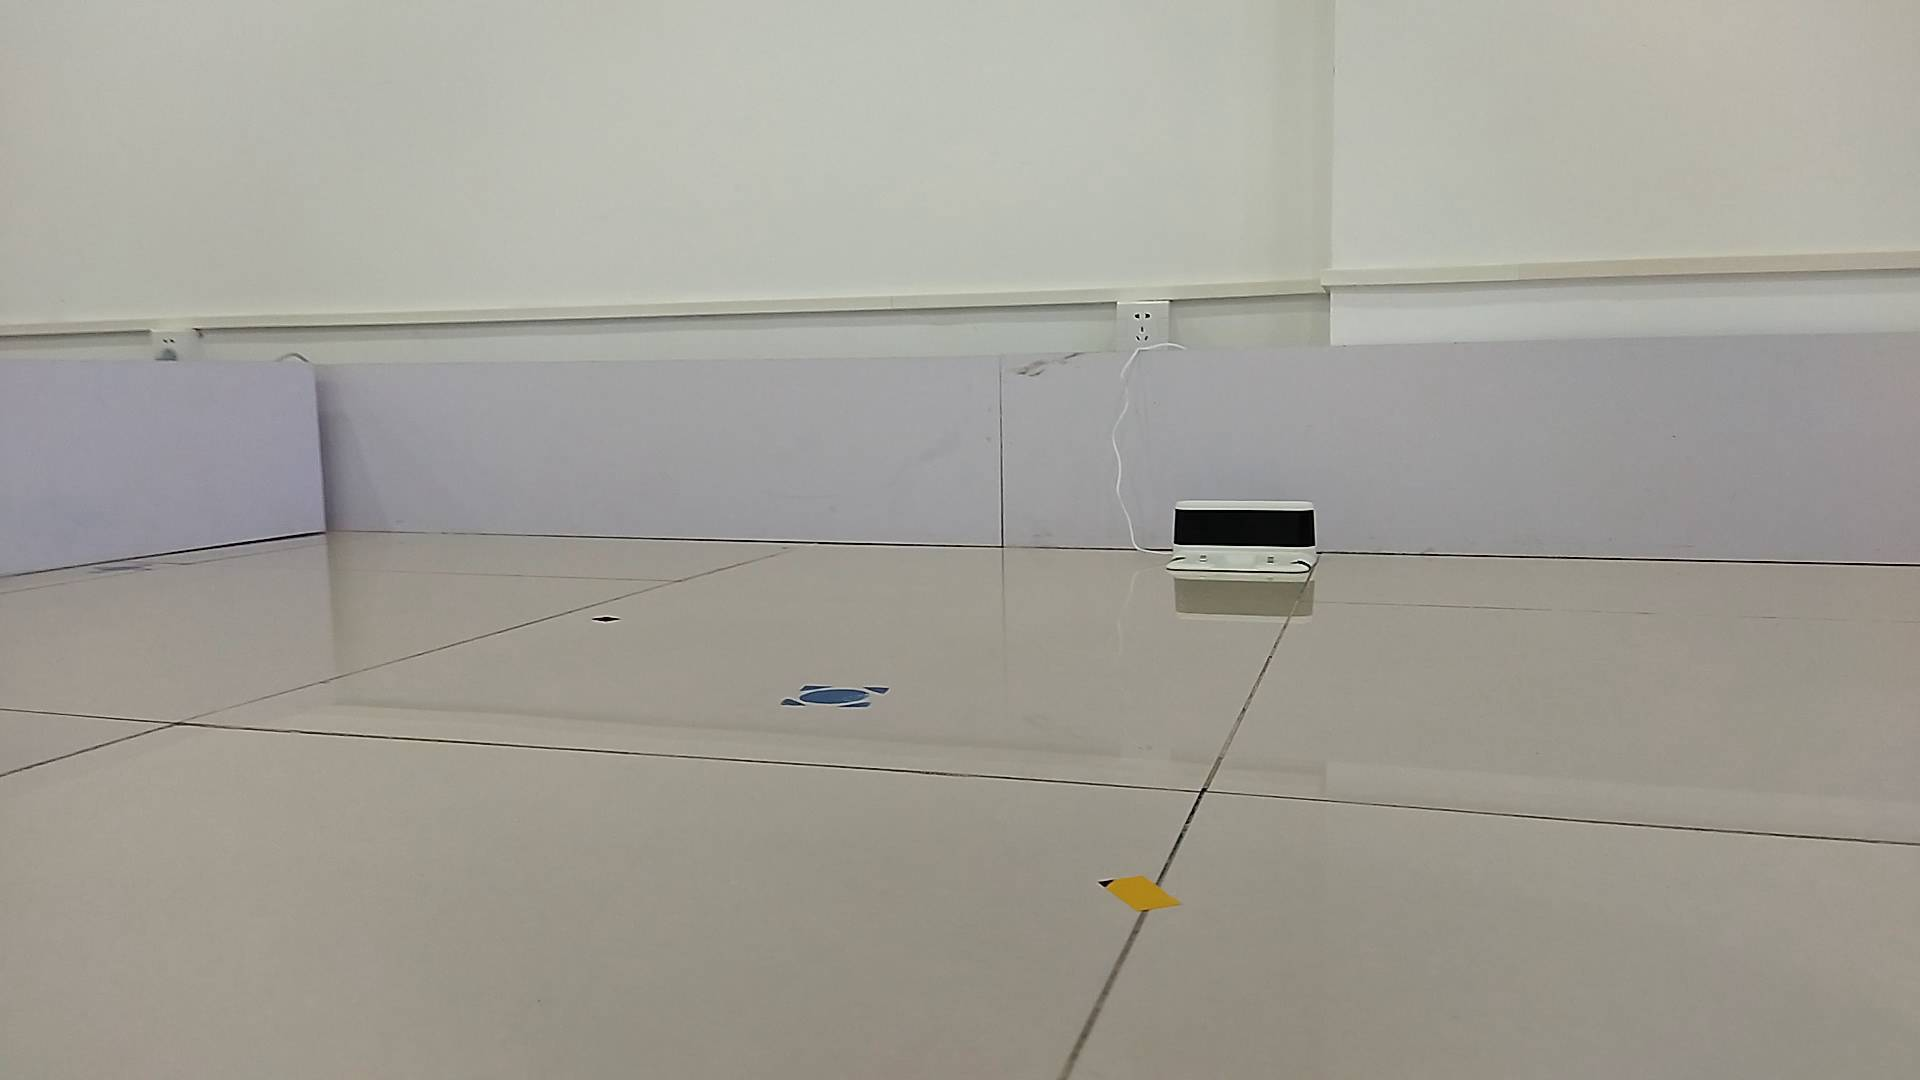recharge seat: (1164, 498, 1323, 572)
